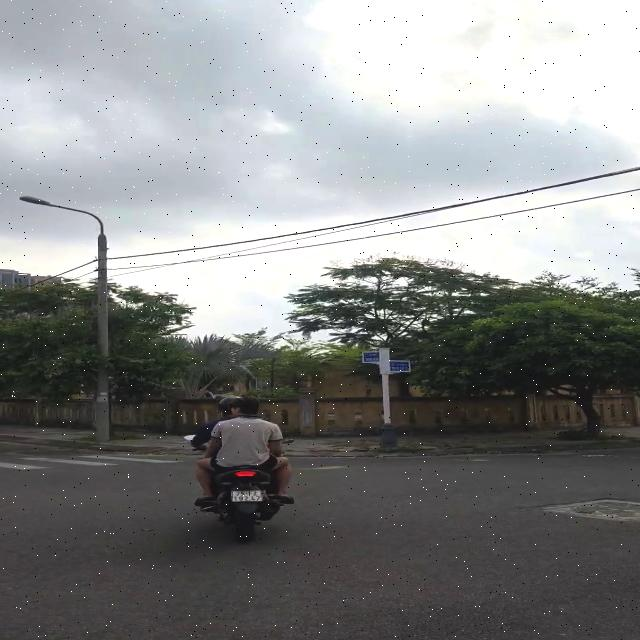helmet: (217, 396, 242, 416)
no_helmet: (234, 398, 263, 415)
